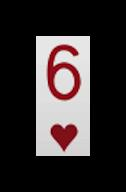6H: (42, 41, 84, 154)
